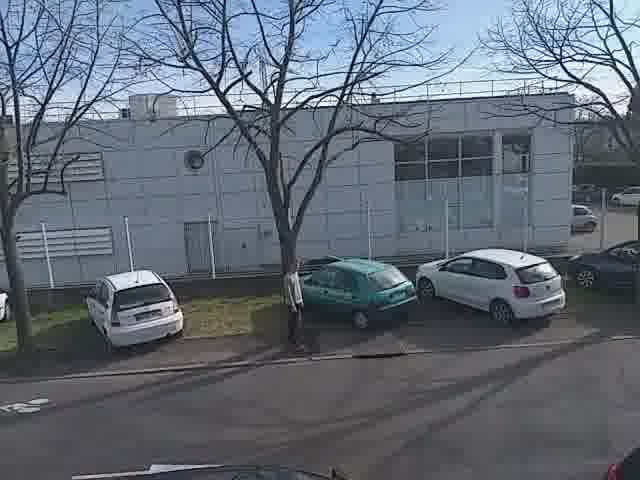persona: (274, 250, 309, 355)
